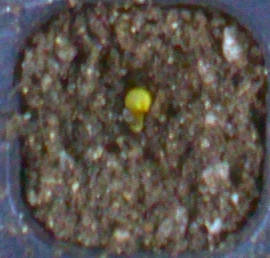pepper seed: (48, 32, 200, 145)
